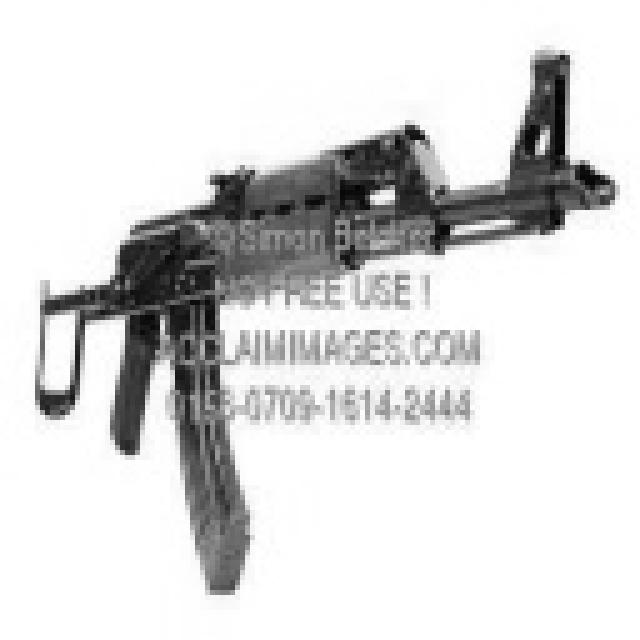Rifle: (0, 38, 640, 615)
